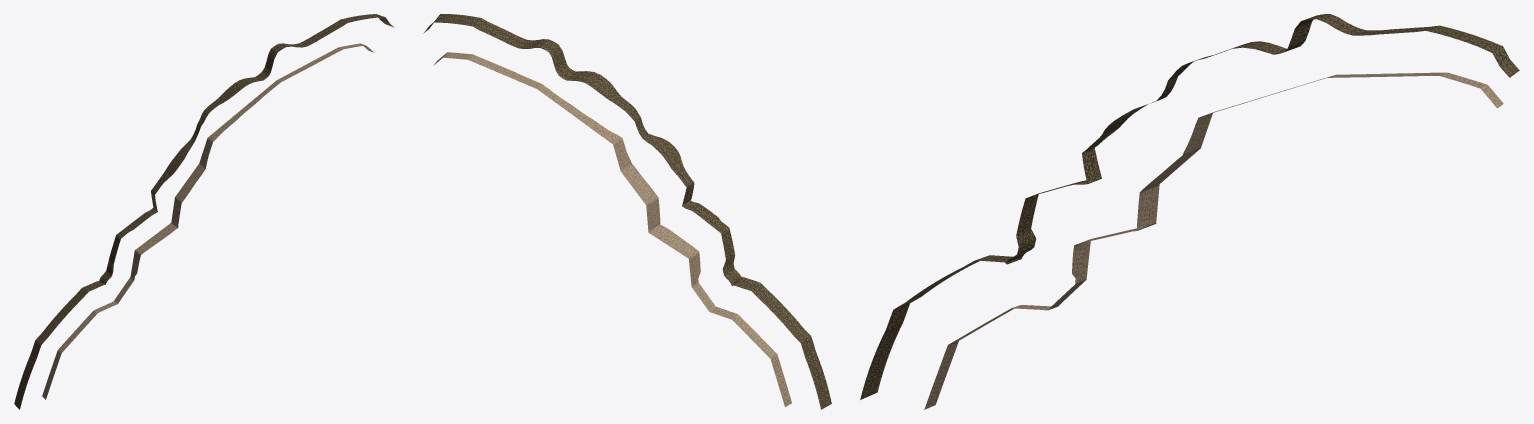
File: walls.obj
3 views of the same model, side by side, from view 1: azimuth 30°, elevation 25°; view 2: azimuth 150°, elevation 25°; view 3: azimuth 330°, elevation 25° (orthographic). The views are drawn at different scales.
Parts seen in each view (by area): view 1: walls; view 2: walls; view 3: walls.
Boxes of the visible parts, box(x1,y1,x2,y2) form: walls: box(14, 14, 394, 409); walls: box(423, 14, 831, 409); walls: box(860, 14, 1519, 409).
Size of the model in its own units: 48.55 by 36.65 by 5.3.
1 material, 1 textured.
